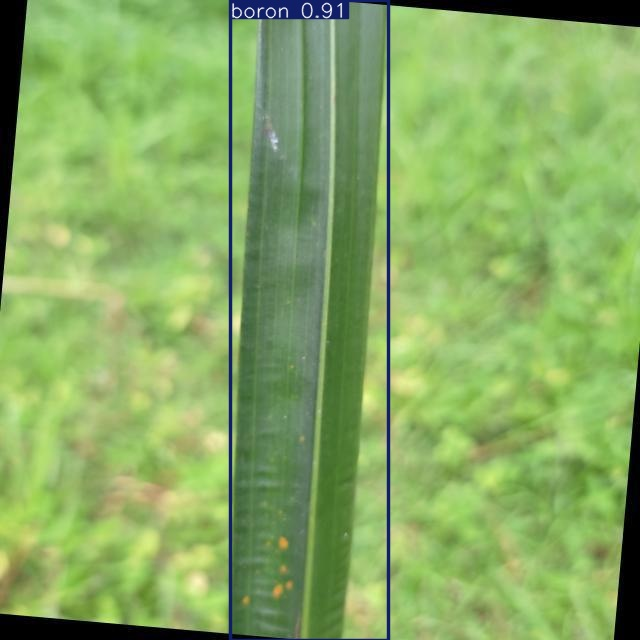nitrogen: (231, 0, 388, 640)
